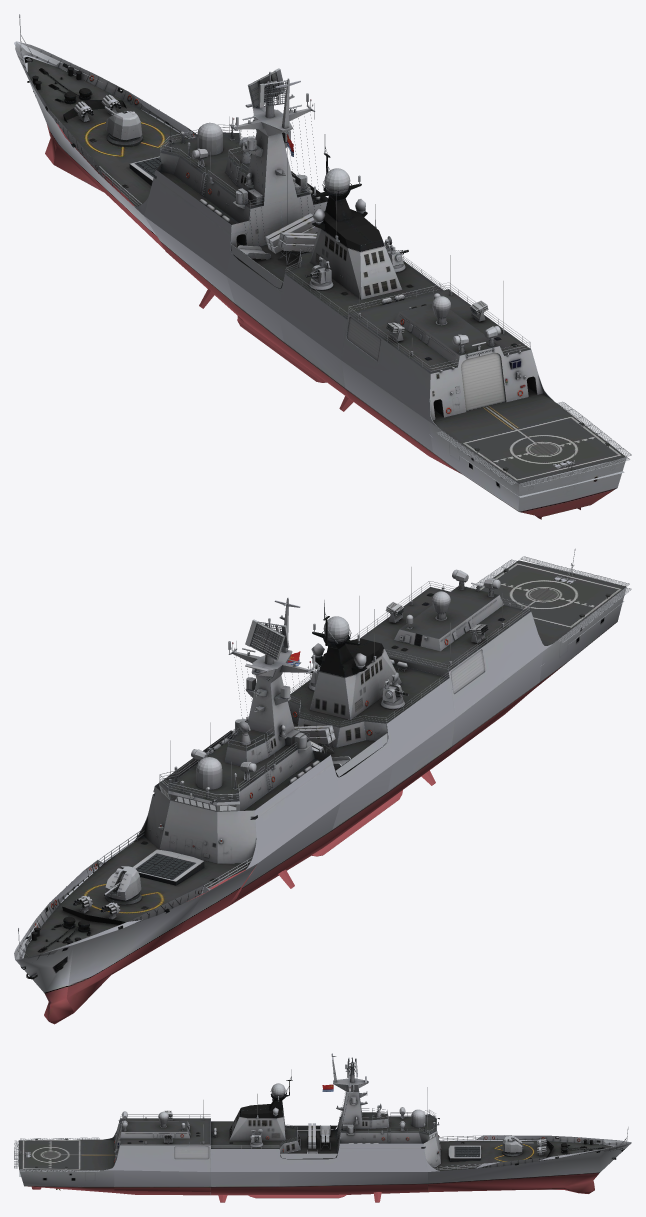
Rendered from frigate-low.glb.
3 views of the same model, one above another, from view 1: azimuth 30°, elevation 25°; view 2: azimuth 150°, elevation 25°; view 3: azimuth 270°, elevation 25° (orthographic). The views are drawn at different scales.
Parts seen in each view (by area): view 1: atas; view 2: atas; view 3: atas.
Part boxes in pixels (<box>): atas: <box>14,14,631,519</box>; atas: <box>14,548,631,1024</box>; atas: <box>14,1053,631,1202</box>.
Bounding box in the file's own units: 17.74 × 34 × 135.
5 materials, 4 textured.
